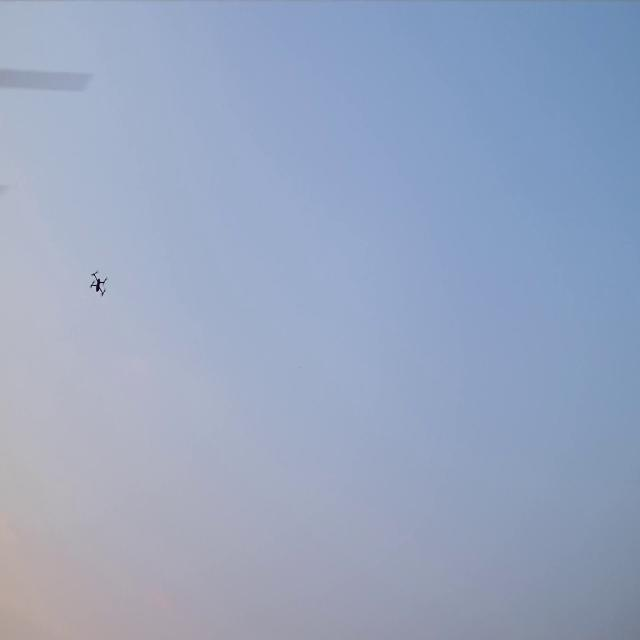UAV: (90, 273, 106, 295)
